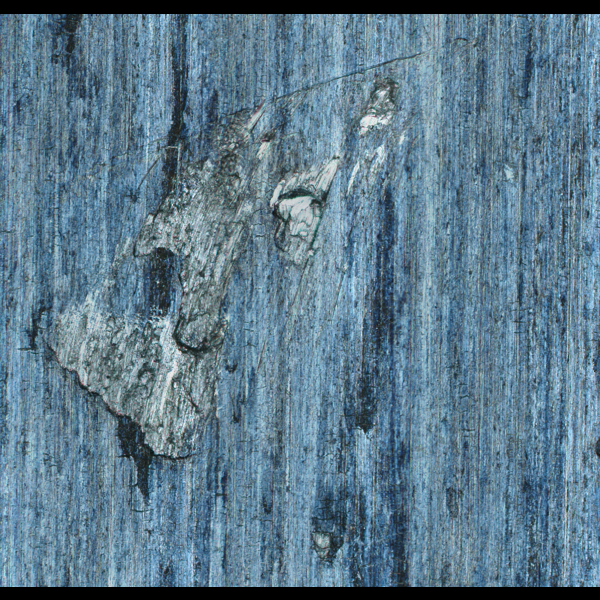d: (22, 74, 414, 500), (307, 502, 350, 566)
